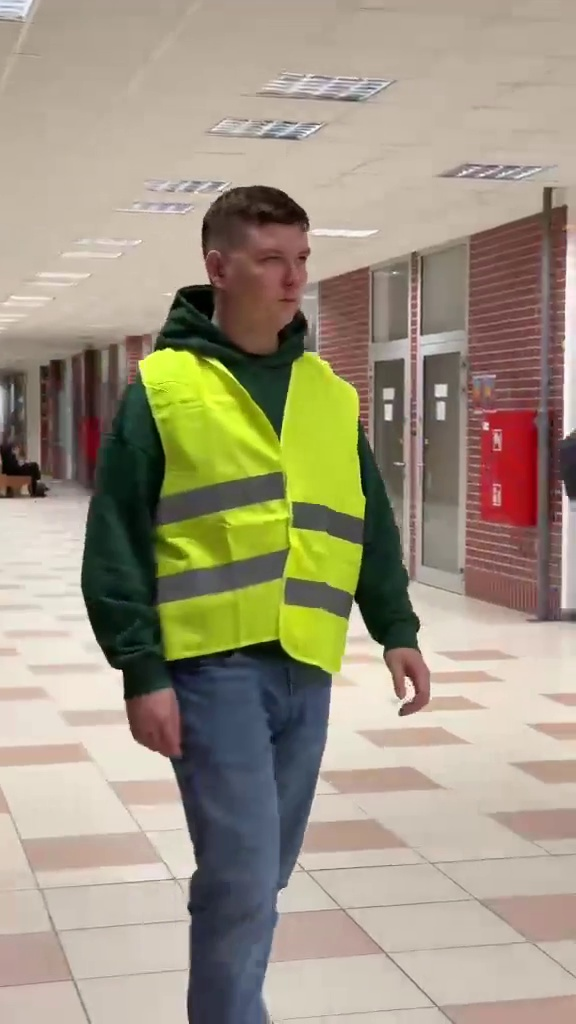vest: (89, 170, 436, 990)
